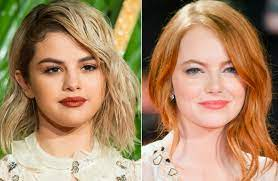eye: (184, 64, 202, 76), (42, 64, 62, 74), (222, 65, 237, 76), (80, 63, 96, 73)
mouth: (199, 97, 231, 112), (58, 95, 88, 109)
nose: (206, 69, 223, 94), (65, 67, 80, 92)
